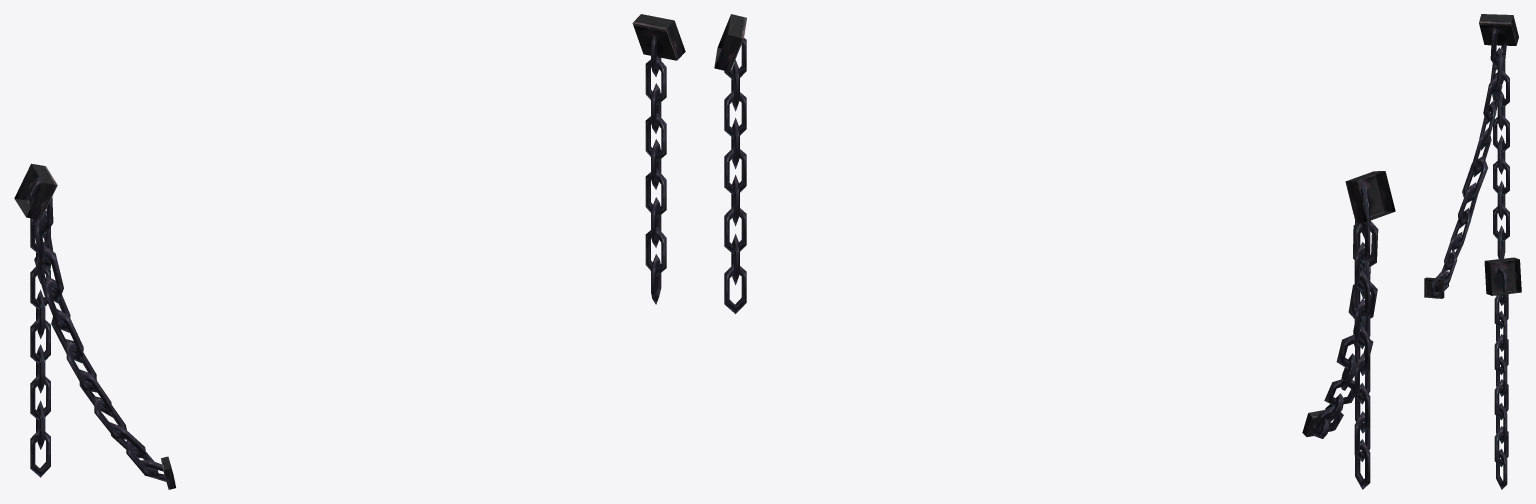
The model's file is tlfb_tielian2.FBX.
3 views of the same model, side by side, from view 1: azimuth 30°, elevation 25°; view 2: azimuth 150°, elevation 25°; view 3: azimuth 270°, elevation 25° (orthographic). The views are drawn at different scales.
Visible parts, largest first — view 1: tlfb_tielian2; view 2: tlfb_tielian2; view 3: tlfb_tielian2.
Part boxes in pixels (left/top/right/bottom): tlfb_tielian2: left=14, top=14, right=685, bottom=489; tlfb_tielian2: left=714, top=14, right=1395, bottom=489; tlfb_tielian2: left=1424, top=14, right=1521, bottom=489.
Bounding box in the file's own units: 2363 × 1054 × 373.
